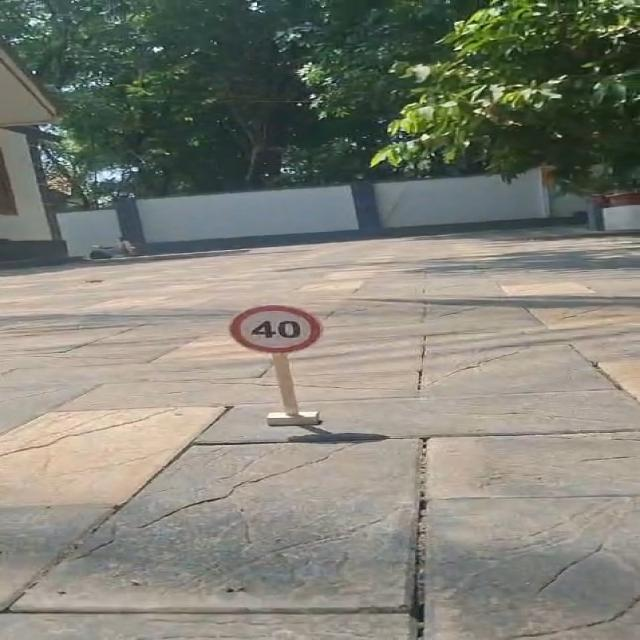Speed40: (226, 302, 326, 356)
